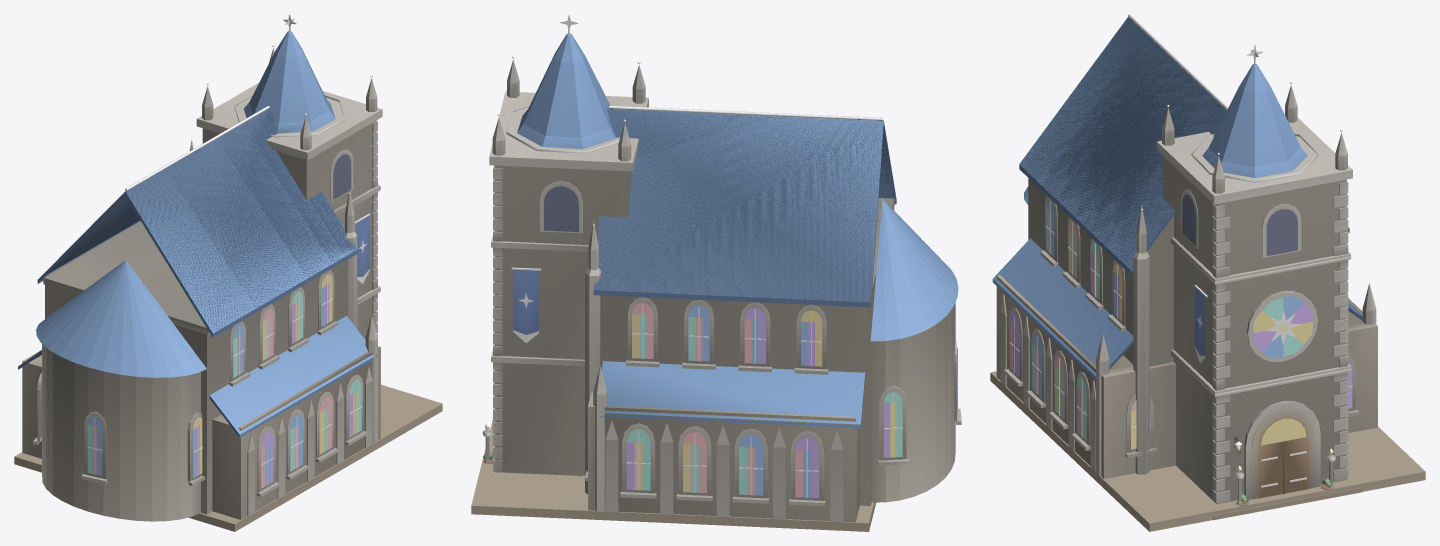
3 views of the same model, side by side, from view 1: azimuth 30°, elevation 25°; view 2: azimuth 150°, elevation 25°; view 3: azimuth 270°, elevation 25° (orthographic). The views are drawn at different scales.
Parts seen in each view (by area): view 1: Church_stone, Church_roof, Church_glow, Church_gold, Church_props; view 2: Church_stone, Church_roof, Church_glow, Church_gold, Church_props; view 3: Church_stone, Church_roof, Church_glow, Church_props, Church_gold.
Boxes of the visible parts, <box> form: Church_stone: <box>14,48,442,531</box>; Church_roof: <box>18,31,376,437</box>; Church_glow: <box>87,21,361,488</box>; Church_gold: <box>87,14,380,485</box>; Church_props: <box>333,154,369,276</box>; Church_stone: <box>471,59,961,531</box>; Church_roof: <box>517,33,958,428</box>; Church_glow: <box>485,22,957,497</box>; Church_gold: <box>482,14,958,497</box>; Church_props: <box>482,186,578,463</box>; Church_stone: <box>990,84,1425,531</box>; Church_roof: <box>992,16,1364,379</box>; Church_glow: <box>1010,52,1352,471</box>; Church_props: <box>1182,194,1333,505</box>; Church_gold: <box>1009,14,1352,487</box>.
Bounding box in the file's own units: 18.89 × 17.98 × 16.51.
